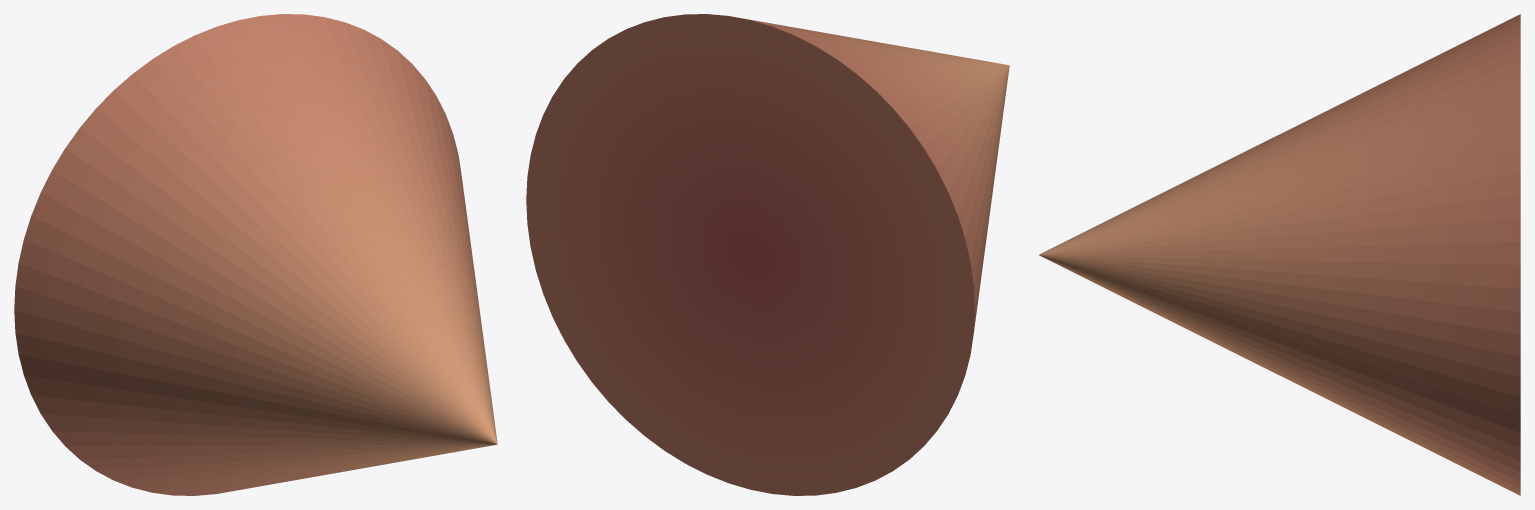
The model's file is kerucut.glb.
3 views of the same model, side by side, from view 1: azimuth 30°, elevation 25°; view 2: azimuth 150°, elevation 25°; view 3: azimuth 270°, elevation 25° (orthographic). The views are drawn at different scales.
Parts seen in each view (by area): view 1: world; view 2: world; view 3: world.
Part boxes in pixels (x1=…): world: x1=14, y1=14, x2=497, y2=495; world: x1=526, y1=14, x2=1009, y2=495; world: x1=1039, y1=14, x2=1520, y2=495.
Size of the model in its own units: 1 by 1 by 1.
